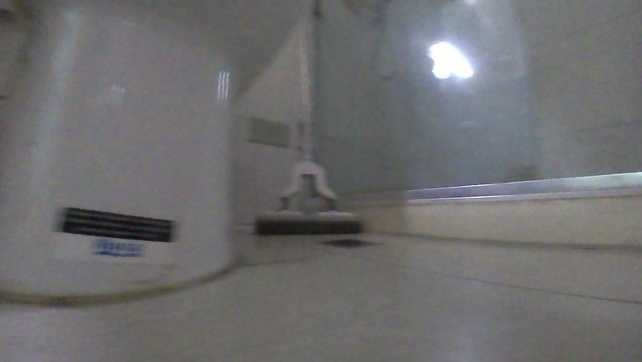toilet: (0, 0, 304, 306)
